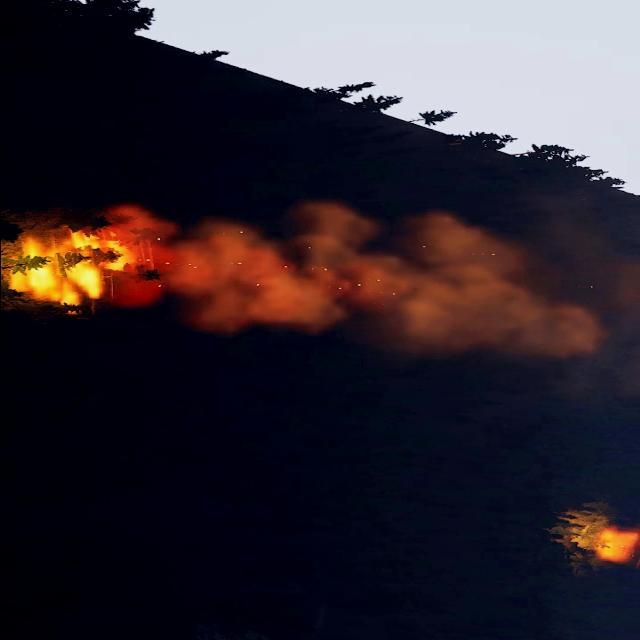fire: (5, 210, 140, 312), (591, 527, 640, 562)
smoke: (125, 204, 640, 362)
